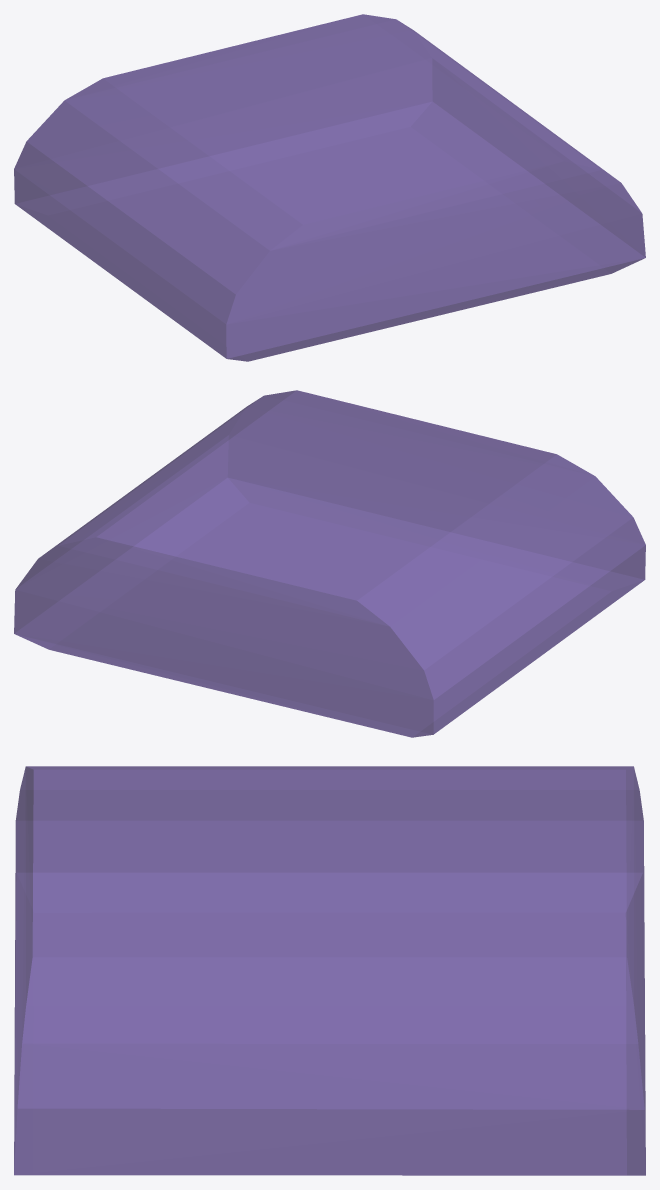
3 renders of one model, top to bottom at view 1: azimuth 30°, elevation 25°; view 2: azimuth 150°, elevation 25°; view 3: azimuth 270°, elevation 25°, orthographic. The views are drawn at different scales.
Parts seen in each view (by area): view 1: Shape_IndexedFaceSet.012_Shape_IndexedFaceSet.16479; view 2: Shape_IndexedFaceSet.012_Shape_IndexedFaceSet.16479; view 3: Shape_IndexedFaceSet.012_Shape_IndexedFaceSet.16479.
Part boxes in pixels (box(x1,y1,x2,y2)): Shape_IndexedFaceSet.012_Shape_IndexedFaceSet.16479: box(14, 14, 645, 361); Shape_IndexedFaceSet.012_Shape_IndexedFaceSet.16479: box(14, 390, 645, 737); Shape_IndexedFaceSet.012_Shape_IndexedFaceSet.16479: box(14, 766, 645, 1175).
Bounding box in the file's own units: 0.1906 × 0.0539 × 0.1682.
